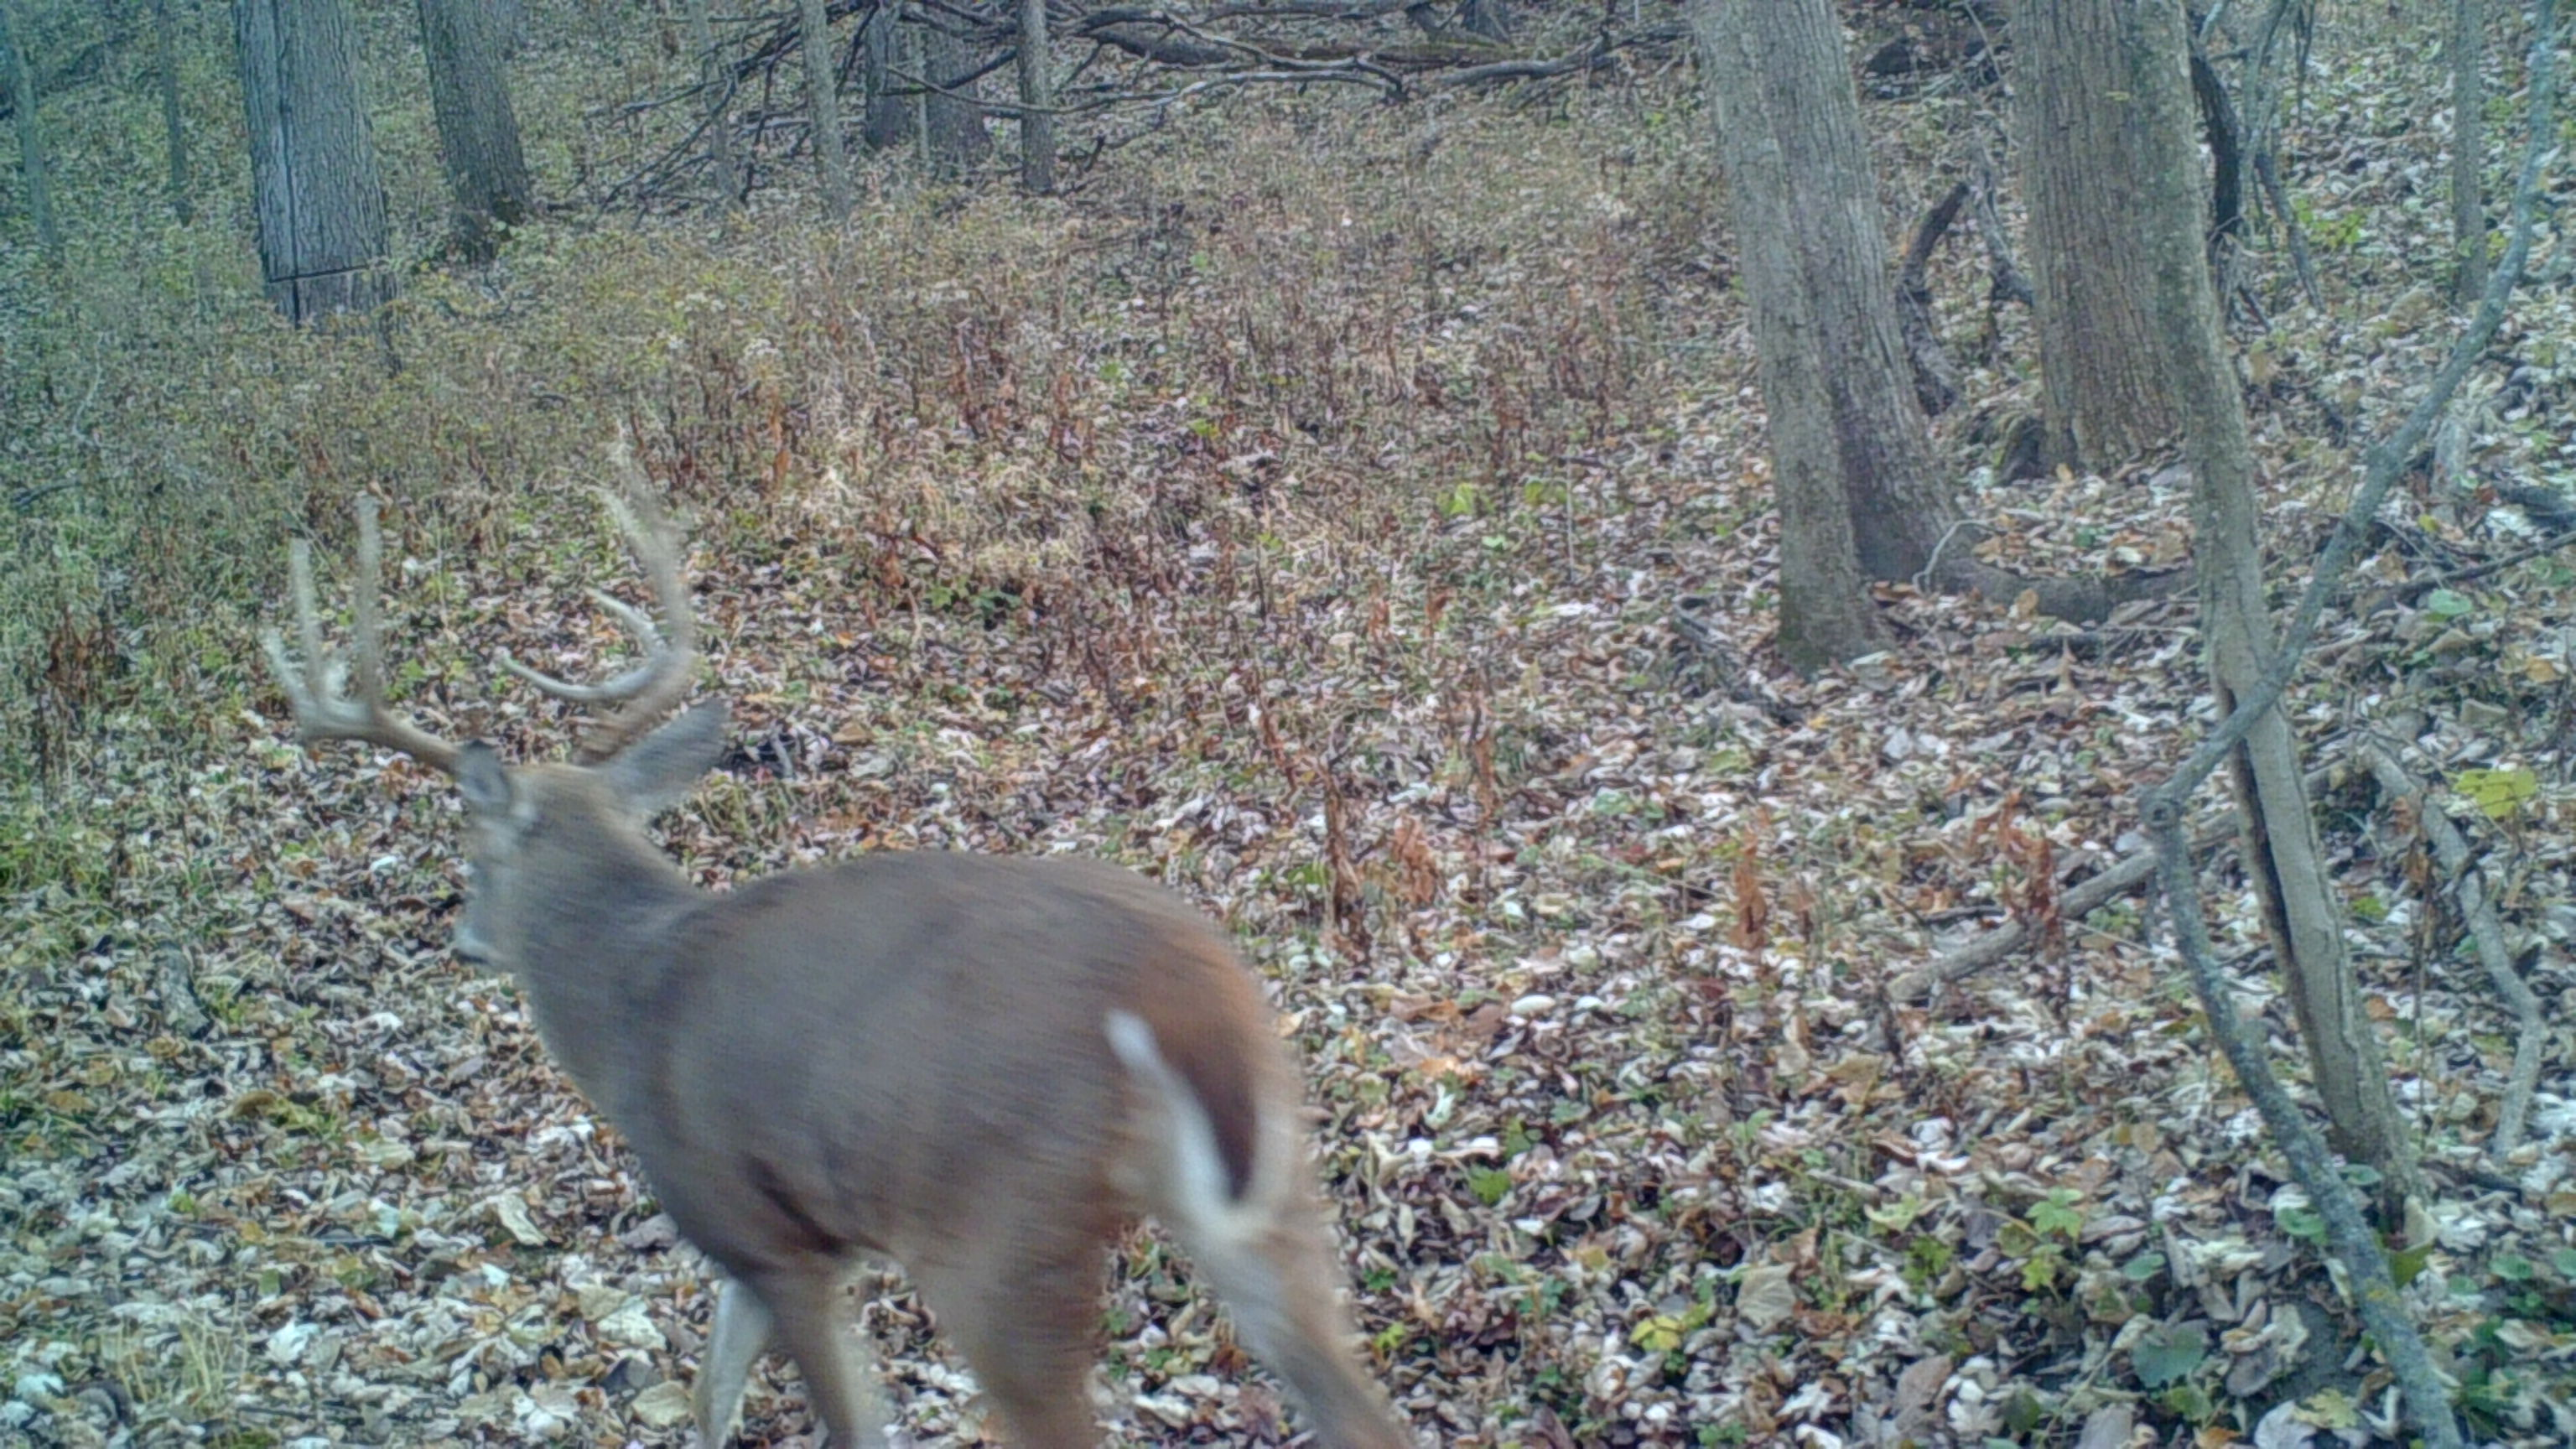DeerBuck: (257, 444, 1414, 1448)
DeerBuckHead: (257, 444, 740, 966)
